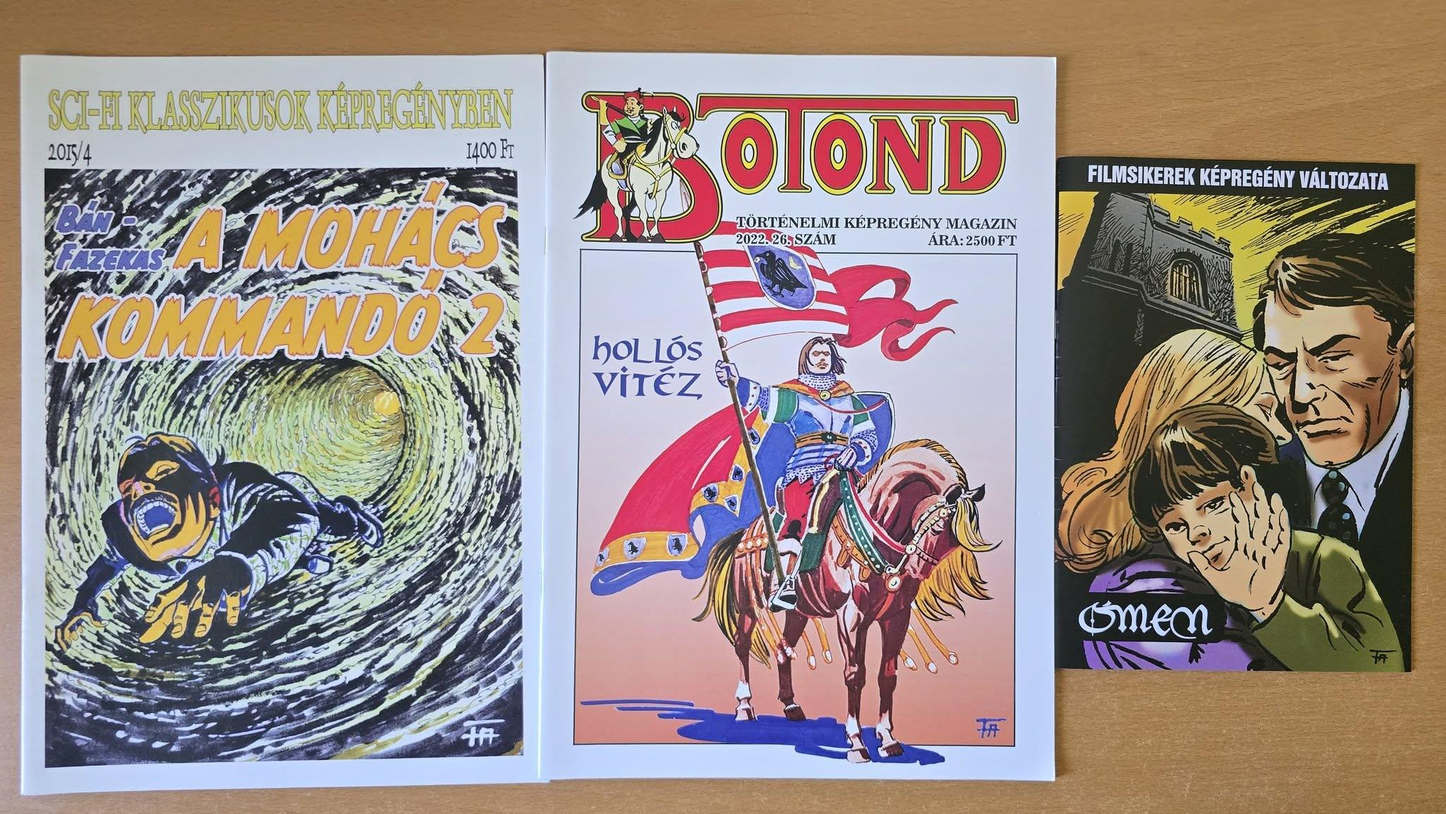comic: (17, 56, 550, 793), (543, 53, 1056, 779), (1053, 157, 1417, 673)
